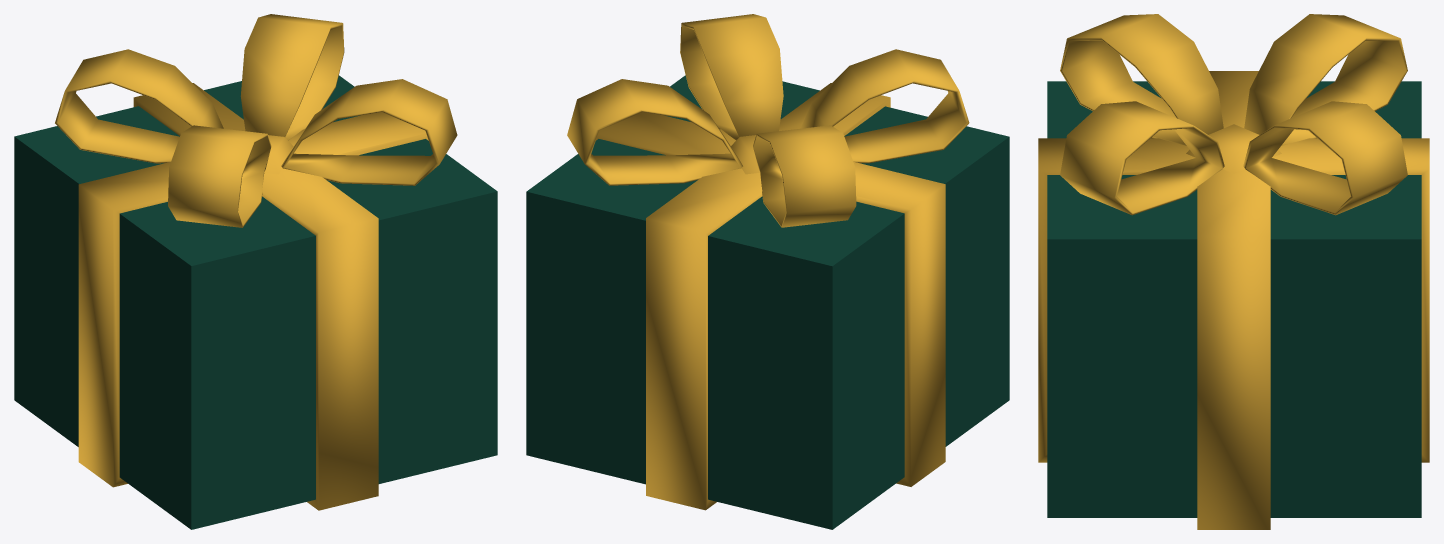
Rendered from giftBigGreen.glb.
The picture shows the model from 3 angles, left to right: view 1: azimuth 30°, elevation 25°; view 2: azimuth 150°, elevation 25°; view 3: azimuth 270°, elevation 25°; orthographic projection. The views are drawn at different scales.
Parts seen in each view (by area): view 1: GiftBigGreen; view 2: GiftBigGreen; view 3: GiftBigGreen.
Boxes of the visible parts, x1,y1,x2,y2 form: GiftBigGreen: [14, 14, 497, 529]; GiftBigGreen: [526, 14, 1009, 529]; GiftBigGreen: [1038, 14, 1429, 529].
Size of what is drawn, in the model's own units: 0.9149 by 0.9717 by 0.9149.
2 materials, 2 textured.
